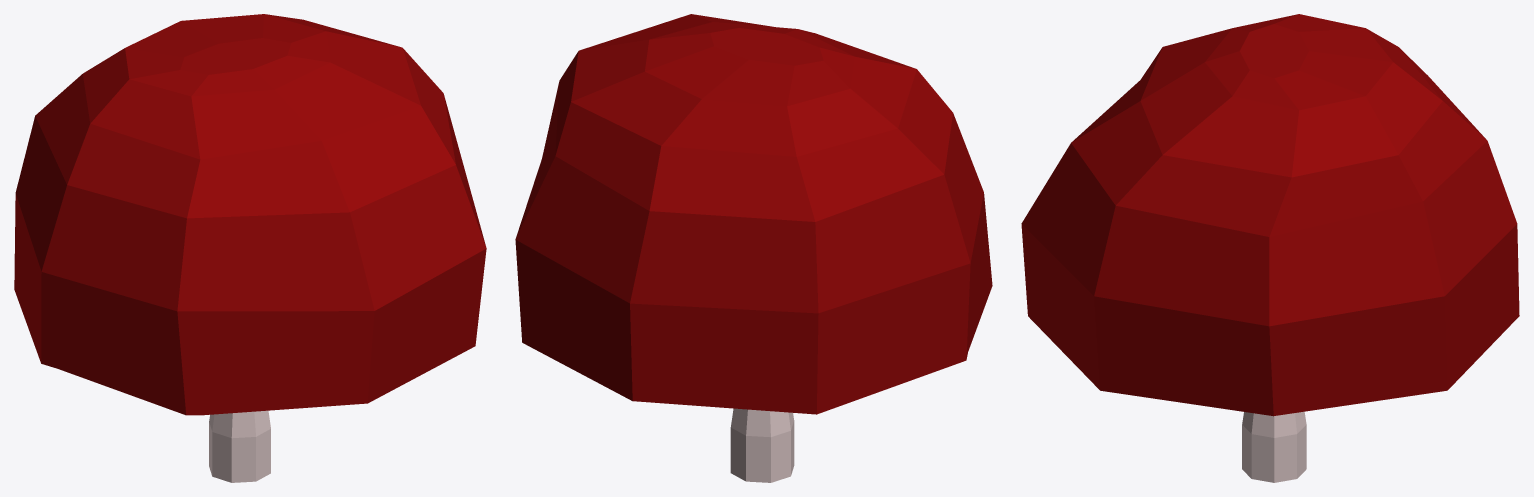
The picture shows the model from 3 angles, left to right: view 1: azimuth 30°, elevation 25°; view 2: azimuth 150°, elevation 25°; view 3: azimuth 270°, elevation 25°; orthographic projection. The views are drawn at different scales.
Parts seen in each view (by area): view 1: band, stem_band; view 2: band, stem_band; view 3: band, stem_band.
Part boxes in pixels (x1,y1,x2,y2): band: (14,14,486,415); stem_band: (209,410,270,482); band: (515,14,992,414); stem_band: (730,408,794,482); band: (1021,14,1519,416); stem_band: (1242,411,1306,482).
Bounding box in the file's own units: 0.098 × 0.0926 × 0.1004.
